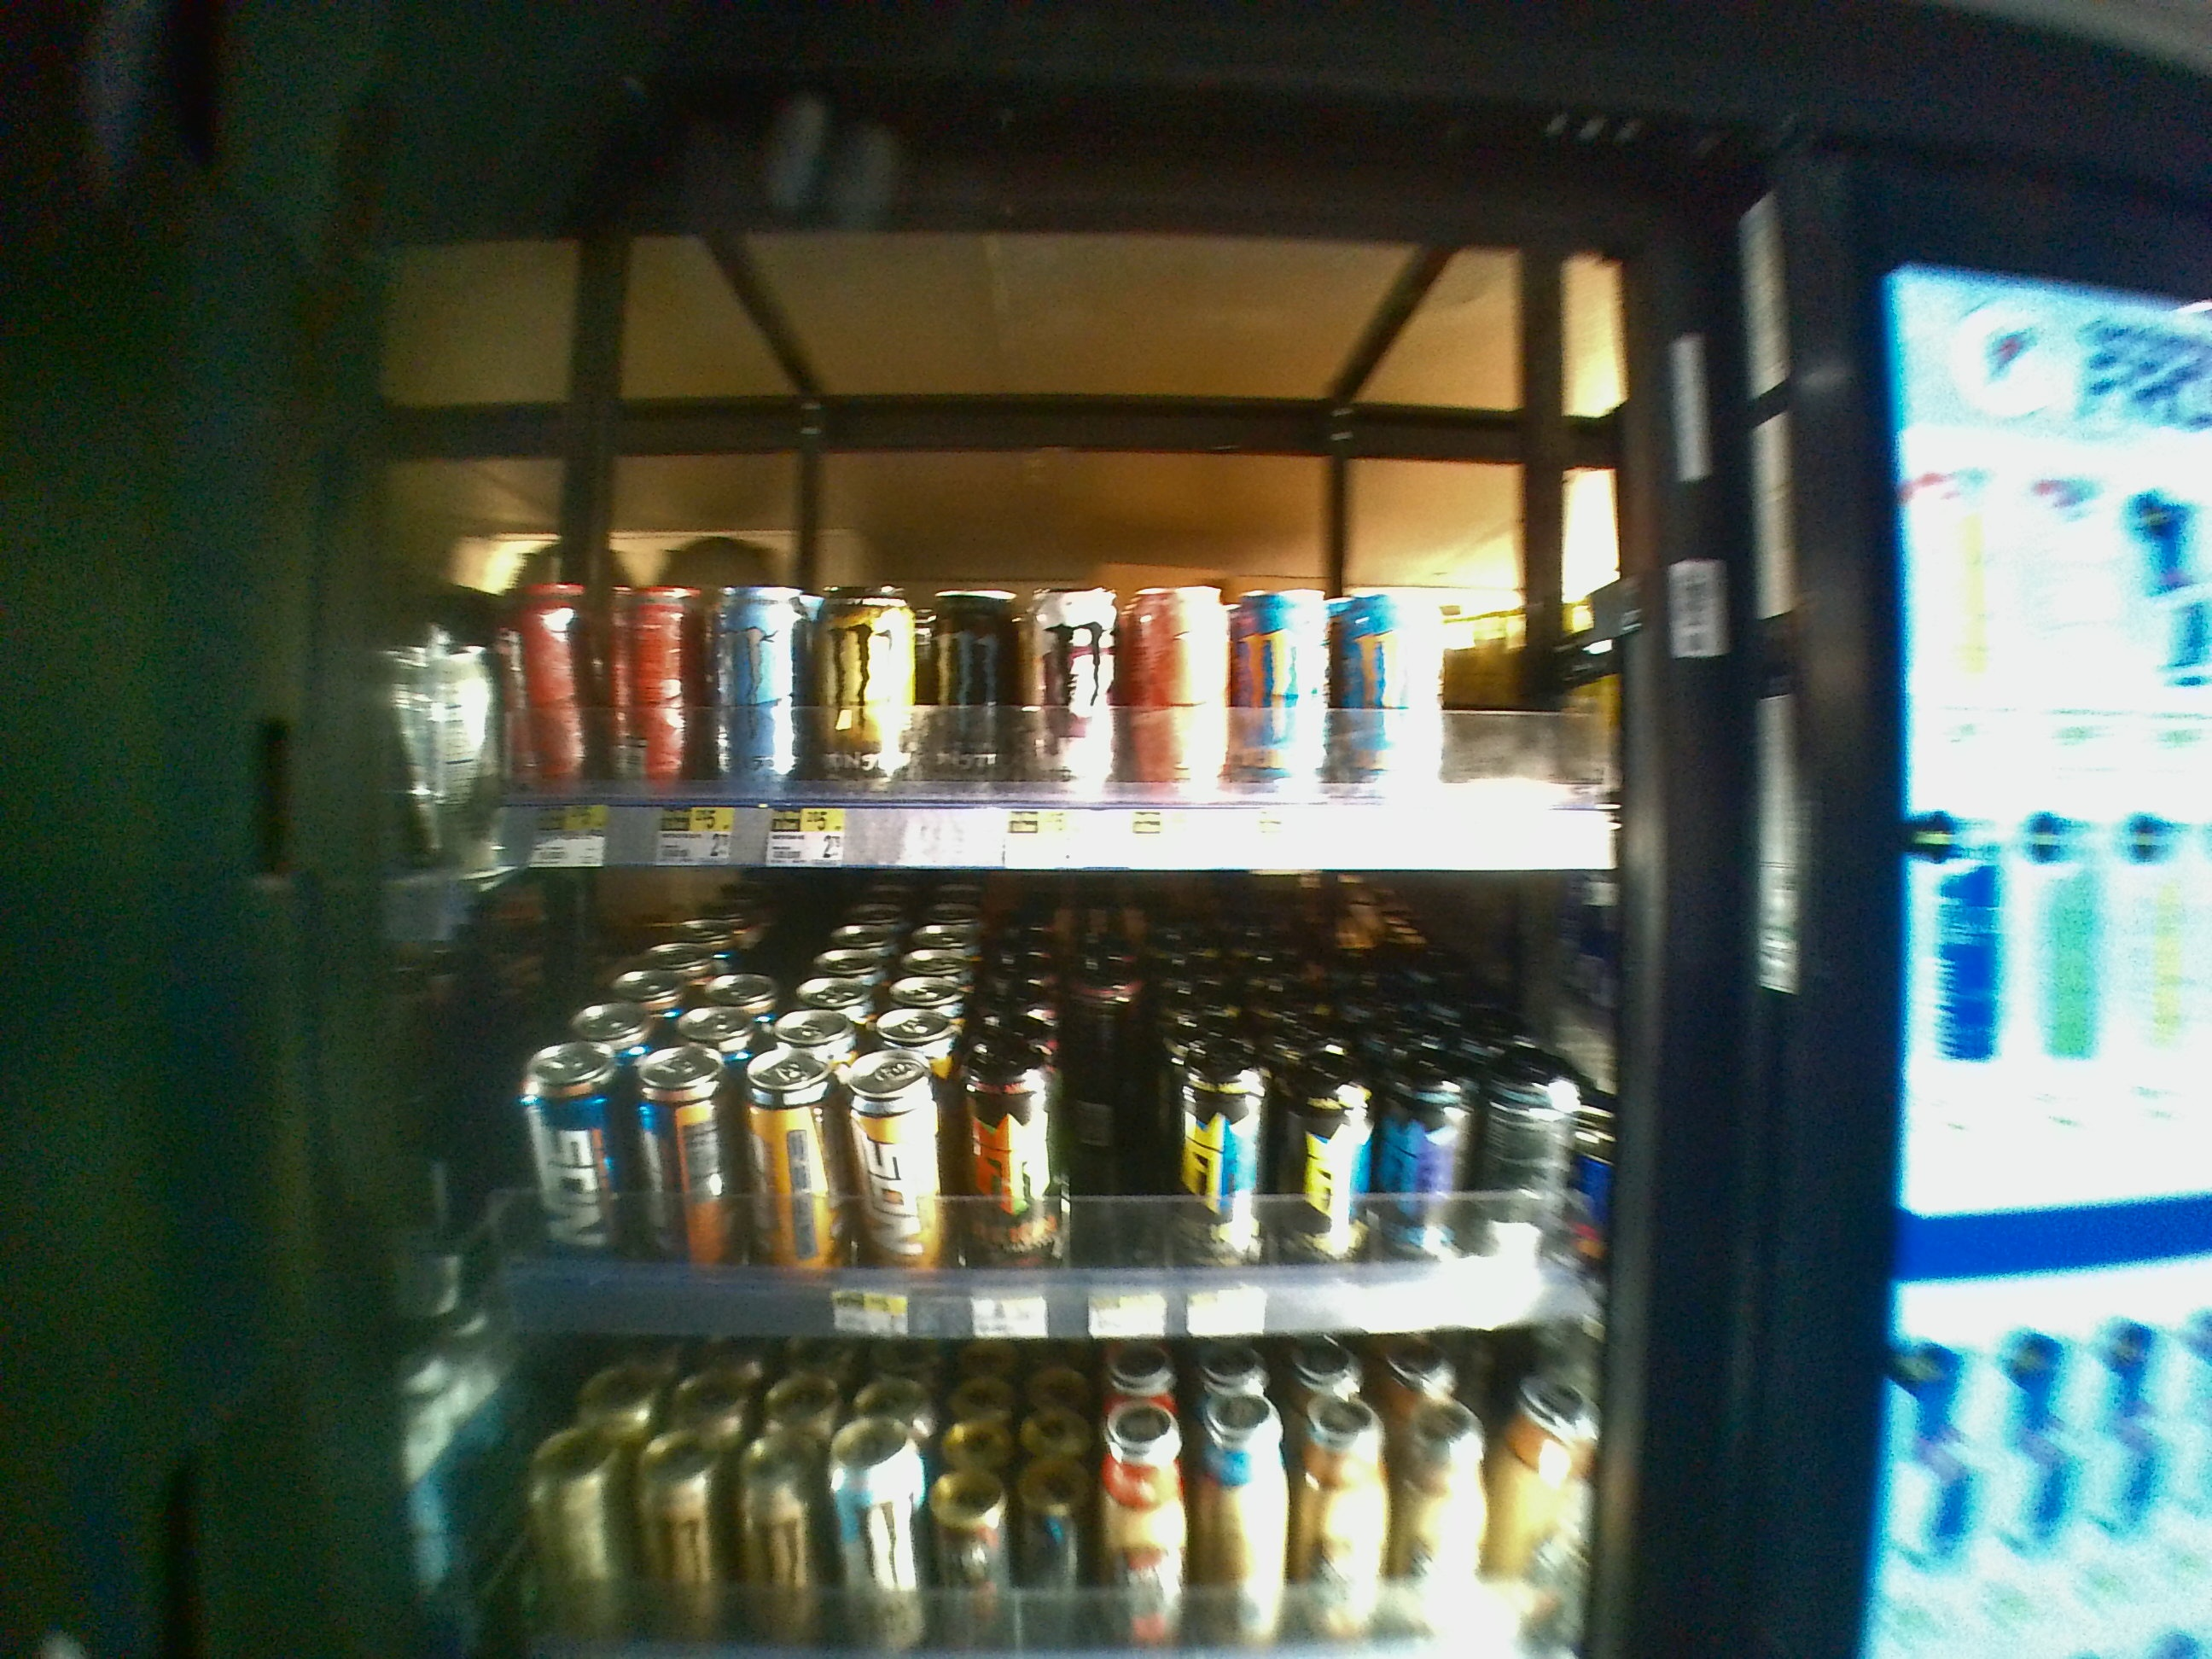shelf: (385, 246, 1649, 871), (387, 864, 1656, 1328)
